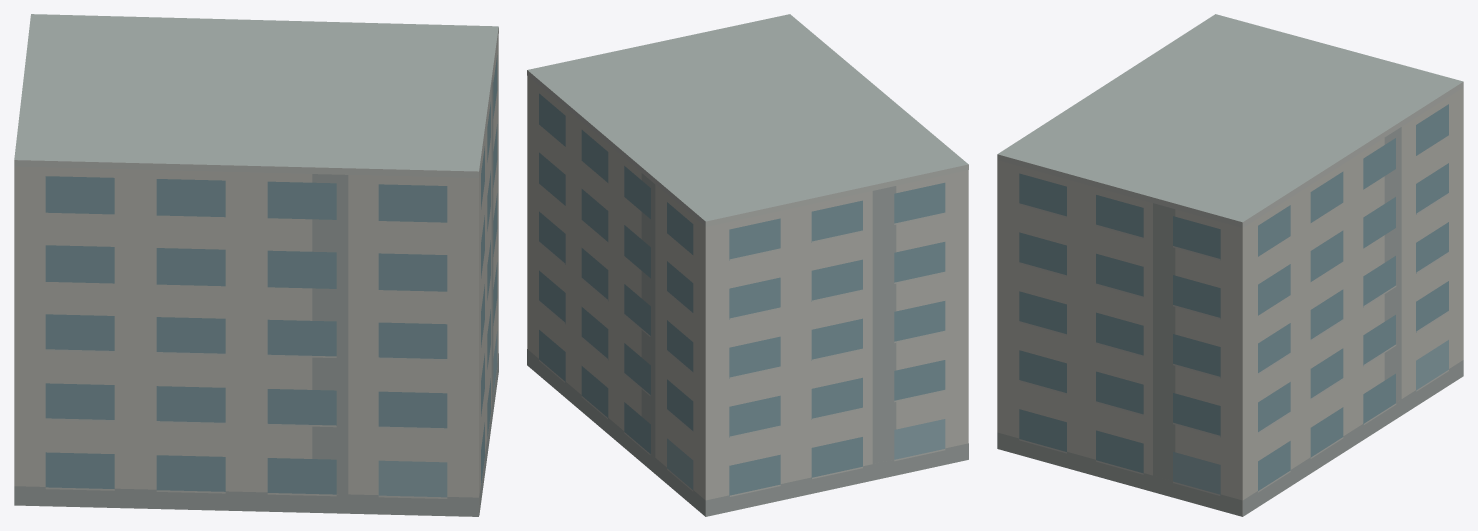
File: survey-upis-33038852.glb
The picture shows the model from 3 angles, left to right: view 1: azimuth 30°, elevation 25°; view 2: azimuth 150°, elevation 25°; view 3: azimuth 270°, elevation 25°; orthographic projection. The views are drawn at different scales.
Parts seen in each view (by area): view 1: survey-upis-33038852.tmp; view 2: survey-upis-33038852.tmp; view 3: survey-upis-33038852.tmp.
Boxes of the visible parts, <box> form: survey-upis-33038852.tmp: <box>14,14,498,516</box>; survey-upis-33038852.tmp: <box>527,14,968,516</box>; survey-upis-33038852.tmp: <box>997,14,1463,516</box>.
Size of the model in its own units: 19.28 by 12.71 by 18.24.
